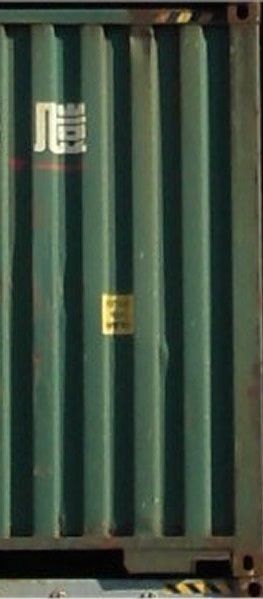container_no_door: (1, 8, 257, 580)
